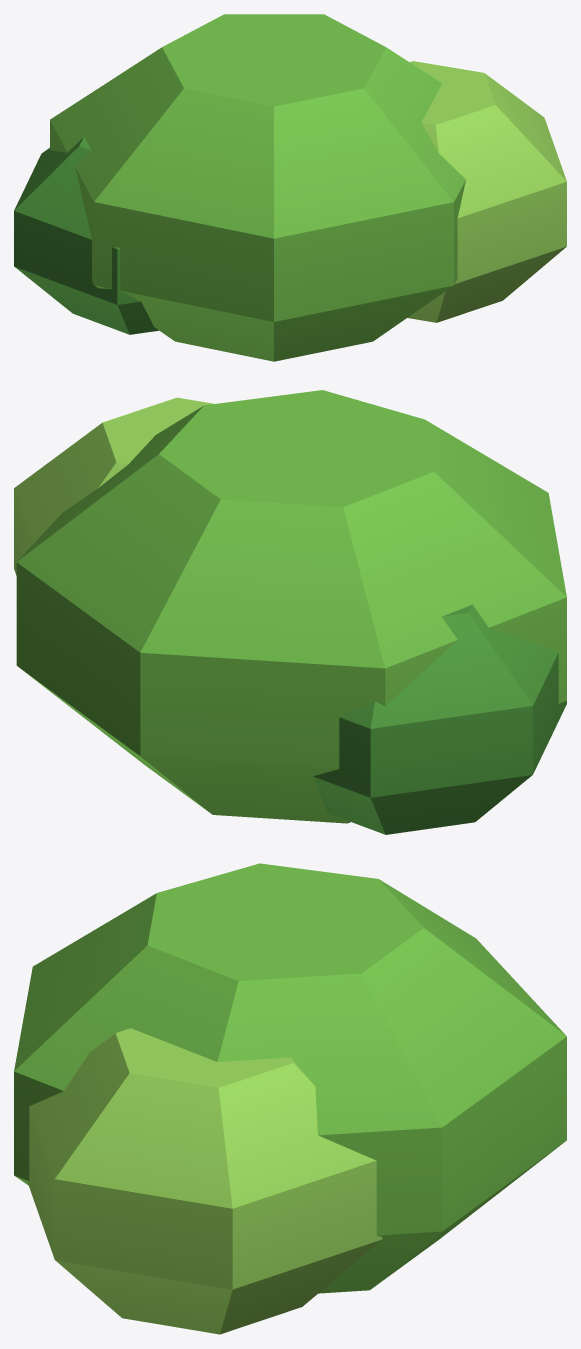
File: bush.glb
3 views of the same model, one above another, from view 1: azimuth 30°, elevation 25°; view 2: azimuth 150°, elevation 25°; view 3: azimuth 270°, elevation 25° (orthographic). The views are drawn at different scales.
Visible parts, largest first — view 1: bush; view 2: bush; view 3: bush.
Part boxes in pixels (x1,y1,x2,y2): bush: (14, 14, 566, 361); bush: (14, 390, 566, 834); bush: (14, 863, 566, 1334).
Bounding box in the file's own units: 1.79 × 0.9 × 1.45.
Materials: 1 (1 with a texture image).
